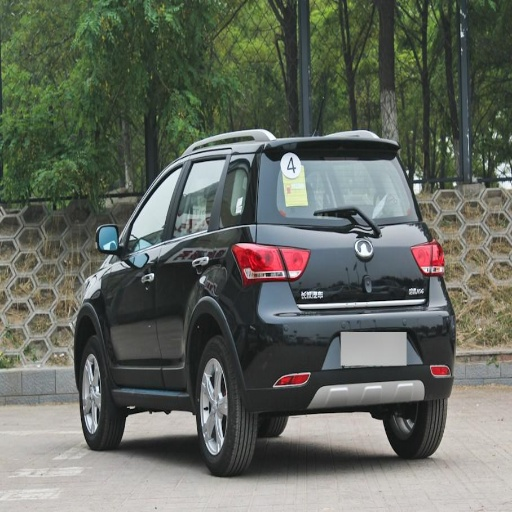back_bumper: (234, 283, 392, 410)
back_glass: (267, 151, 417, 230)
back_left_door: (155, 153, 225, 386)
trunk: (275, 227, 445, 366)
